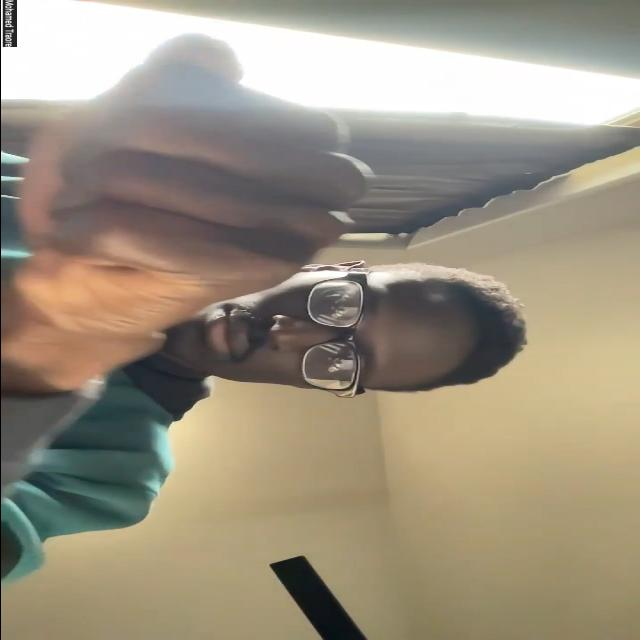Rock: (12, 33, 373, 340)
